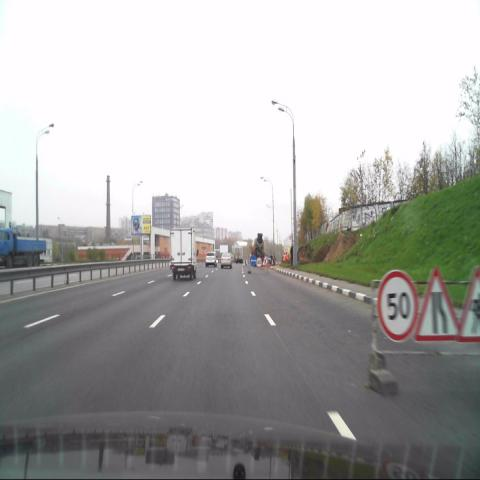1_20_2: (416, 266, 457, 340)
3_24: (376, 270, 418, 341)
